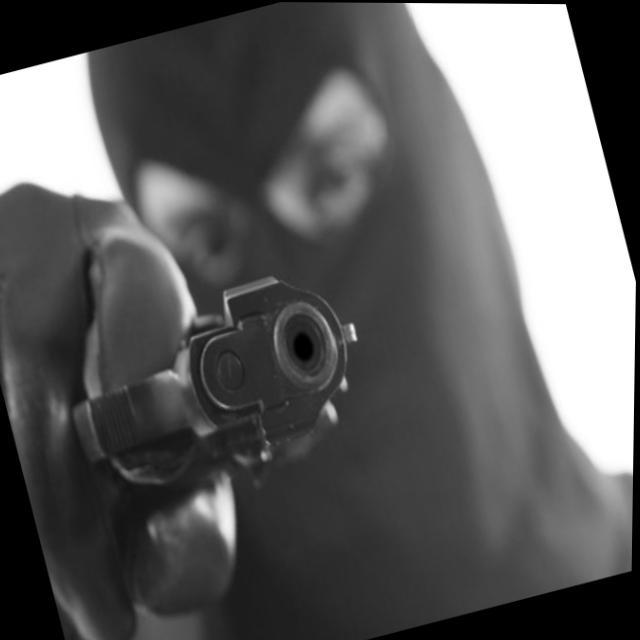weapon: (49, 234, 426, 539)
